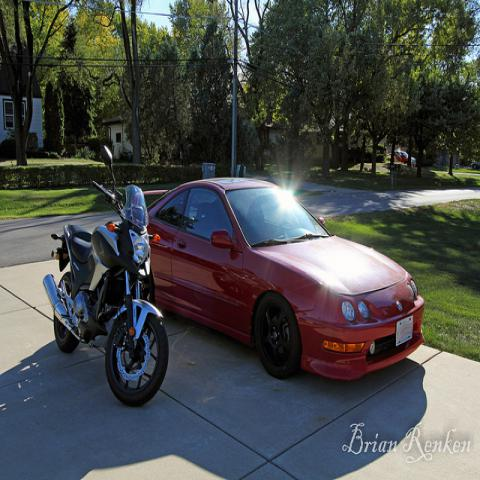car: (146, 177, 424, 382), (385, 152, 416, 168)
motorcycle: (40, 138, 169, 401)
